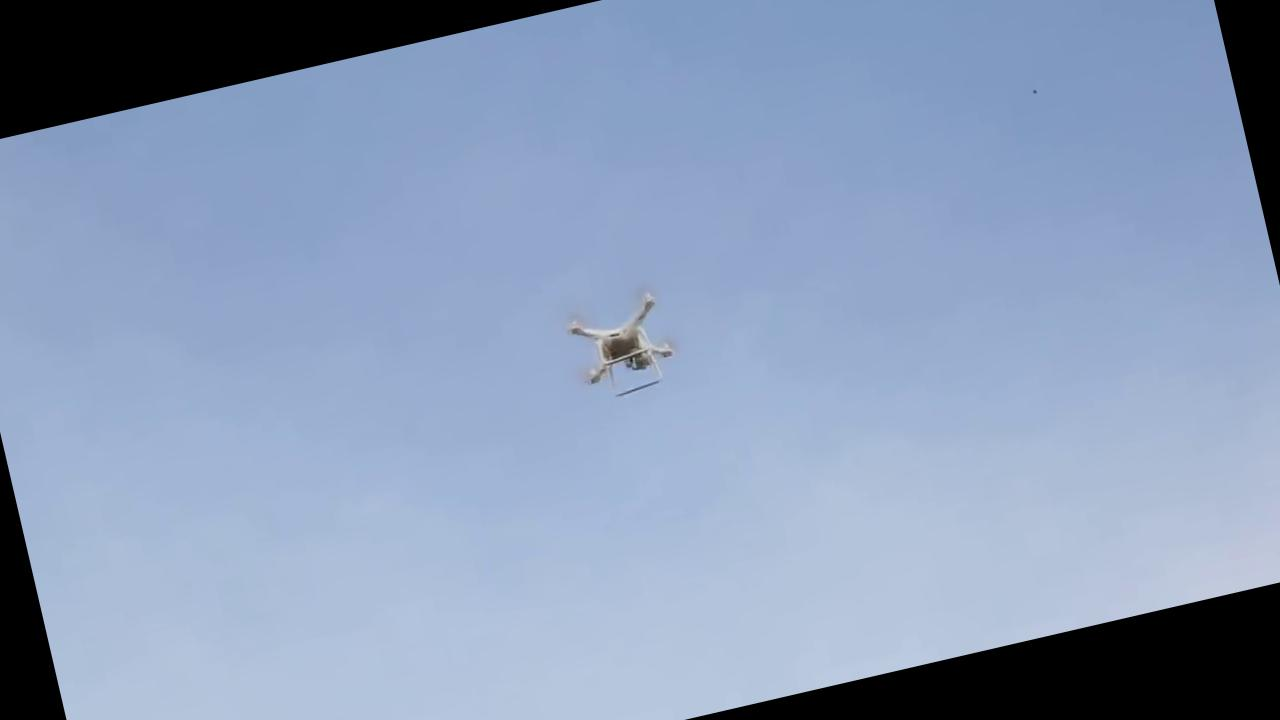drone: (546, 266, 694, 406)
